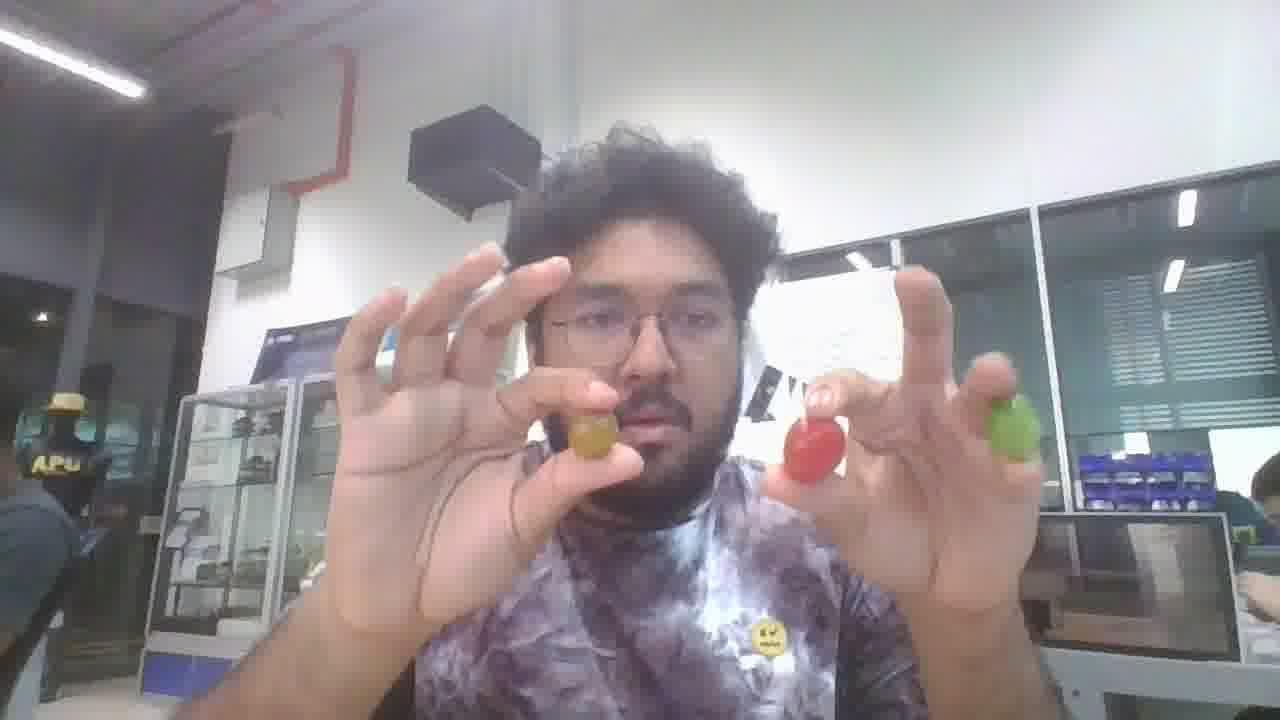green_cherry_tomato: (986, 395, 1040, 462)
red_cherry_tomato: (783, 417, 845, 482)
yellow_cherry_tomato: (568, 415, 618, 459)
